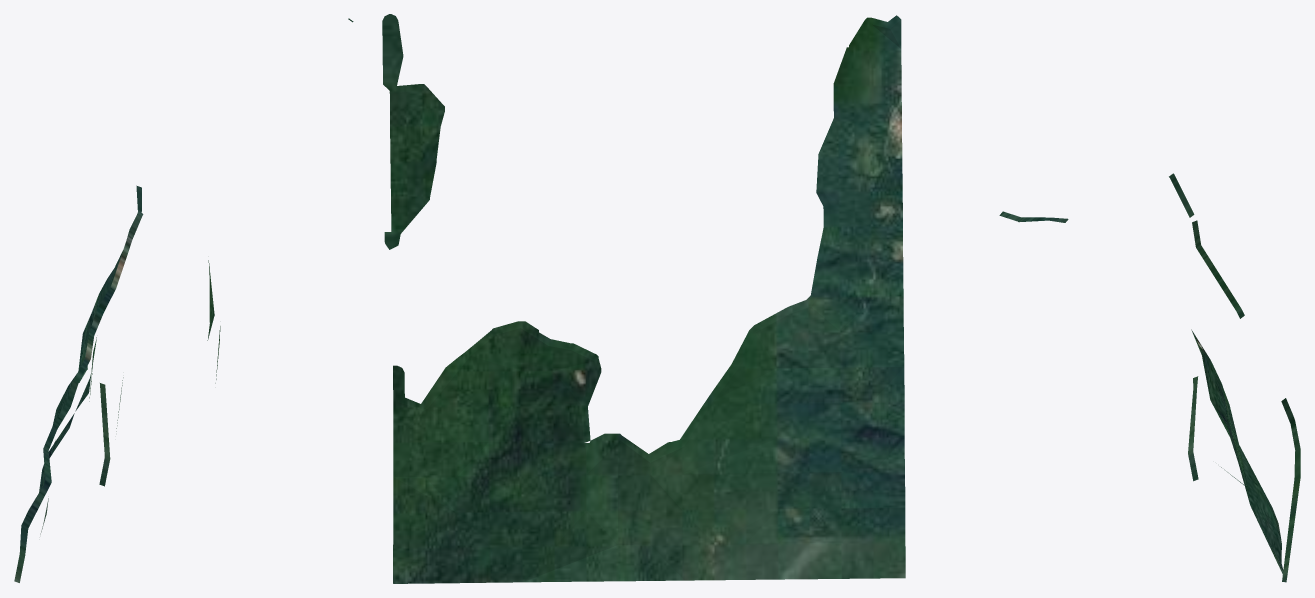
3 renders of one model, left to right at view 1: azimuth 30°, elevation 25°; view 2: azimuth 150°, elevation 25°; view 3: azimuth 270°, elevation 25°, orthographic. The views are drawn at different scales.
Bounding box in the file's own units: 2284 × 2421 × 1810.
Materials: 1 (1 with a texture image).
